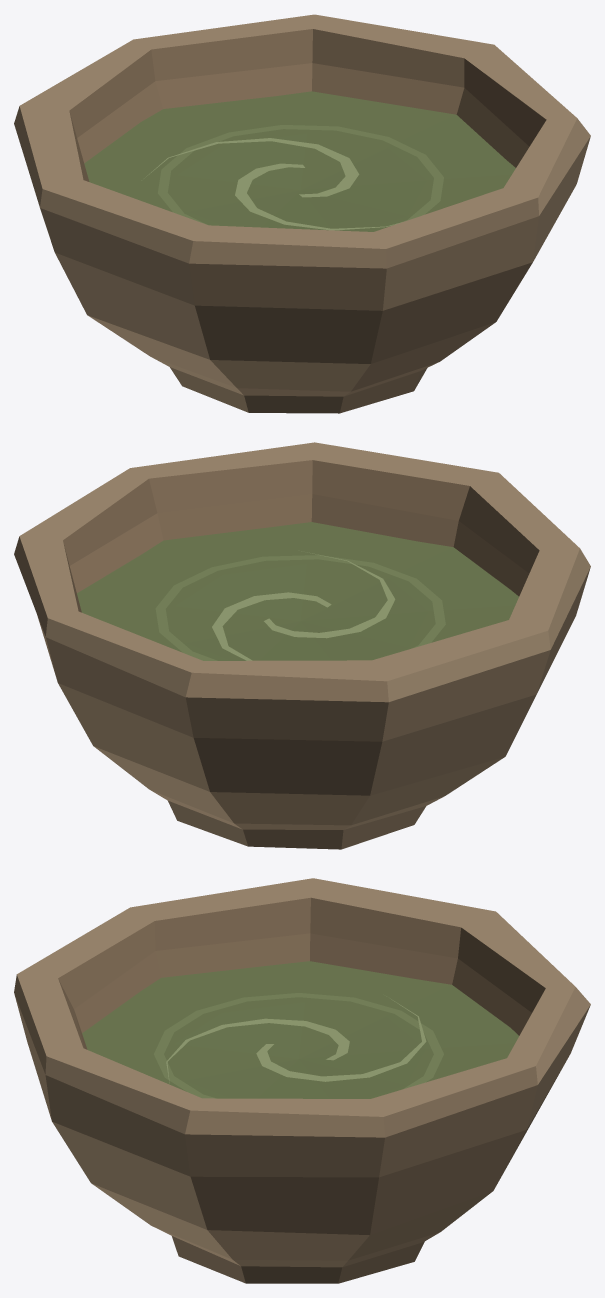
Rendered from bowl_t1.fbx.
The picture shows the model from 3 angles, top to bottom: view 1: azimuth 30°, elevation 25°; view 2: azimuth 150°, elevation 25°; view 3: azimuth 270°, elevation 25°; orthographic projection.
Parts seen in each view (by area): view 1: bowl_t1; view 2: bowl_t1; view 3: bowl_t1.
Boxes of the visible parts, left/top/right/bottom form: bowl_t1: left=14, top=14, right=590, bottom=413; bowl_t1: left=14, top=442, right=590, bottom=849; bowl_t1: left=14, top=878, right=590, bottom=1283.
Bounding box in the file's own units: 14.08 × 6.2 × 14.17.
